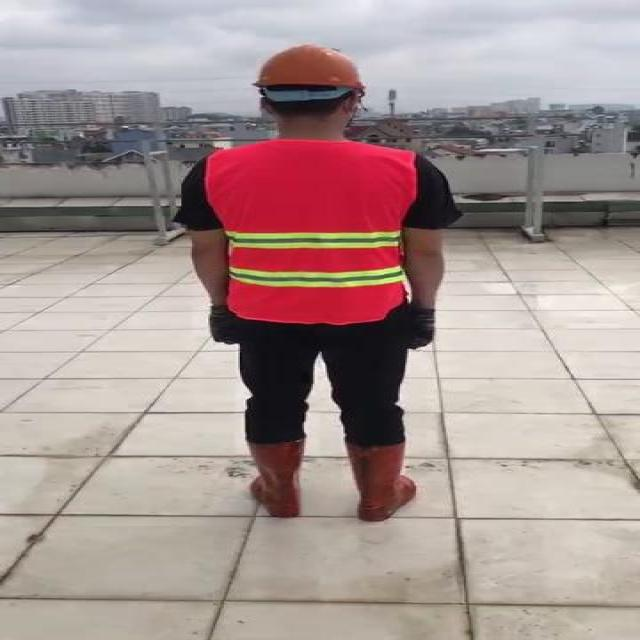boots: (341, 439, 416, 522), (247, 438, 304, 517)
hand_glove: (207, 304, 246, 345), (405, 309, 439, 351)
head_helmet: (250, 42, 367, 90)
person: (176, 38, 469, 530)
vest: (206, 140, 412, 324)
